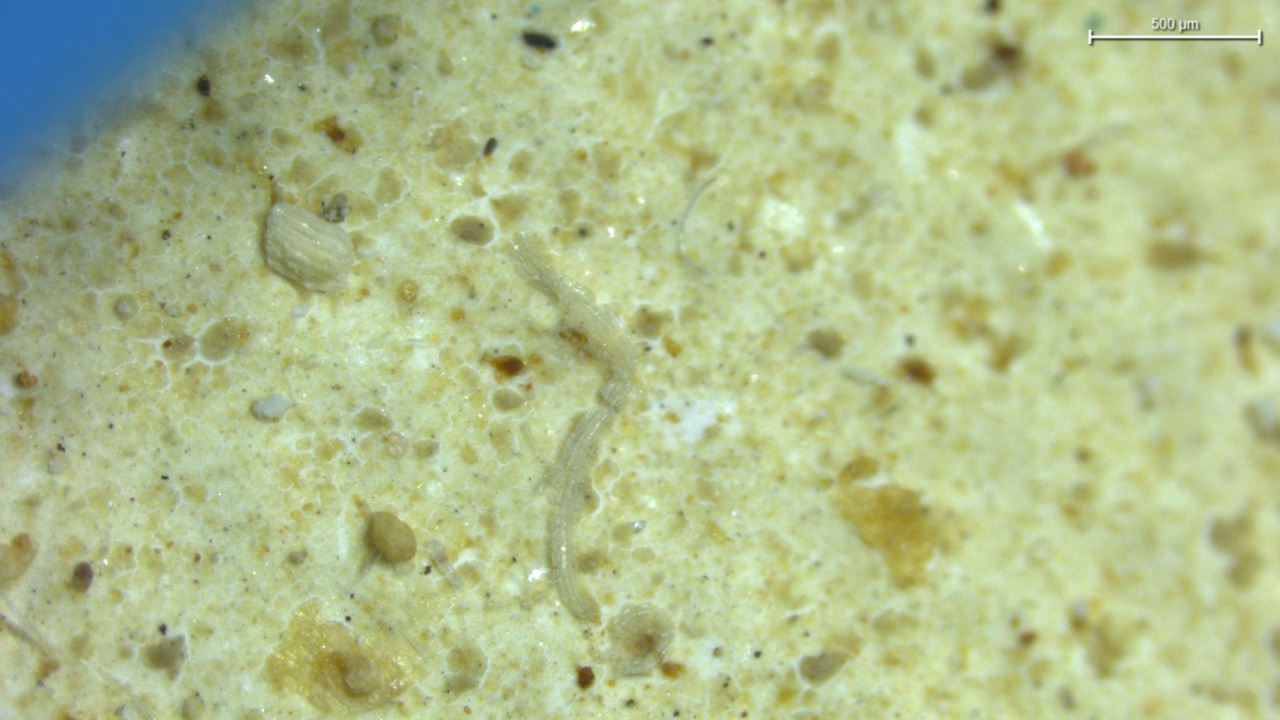microplastic_fragment: (264, 201, 353, 292), (608, 604, 673, 676), (368, 511, 416, 563), (251, 394, 294, 421)
